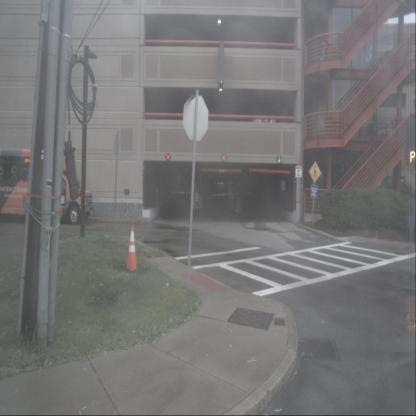cone: (126, 224, 137, 271)
